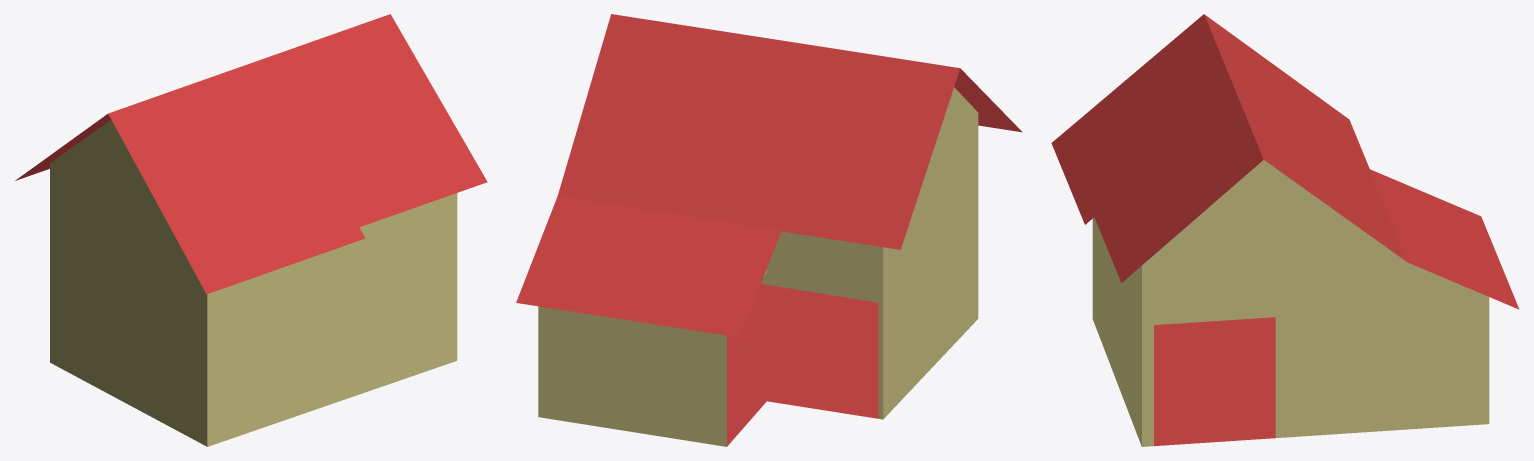
3 renders of one model, left to right at view 1: azimuth 30°, elevation 25°; view 2: azimuth 150°, elevation 25°; view 3: azimuth 270°, elevation 25°, orthographic. The views are drawn at different scales.
Size of the model in its own units: 16.96 by 20.43 by 13.77.
